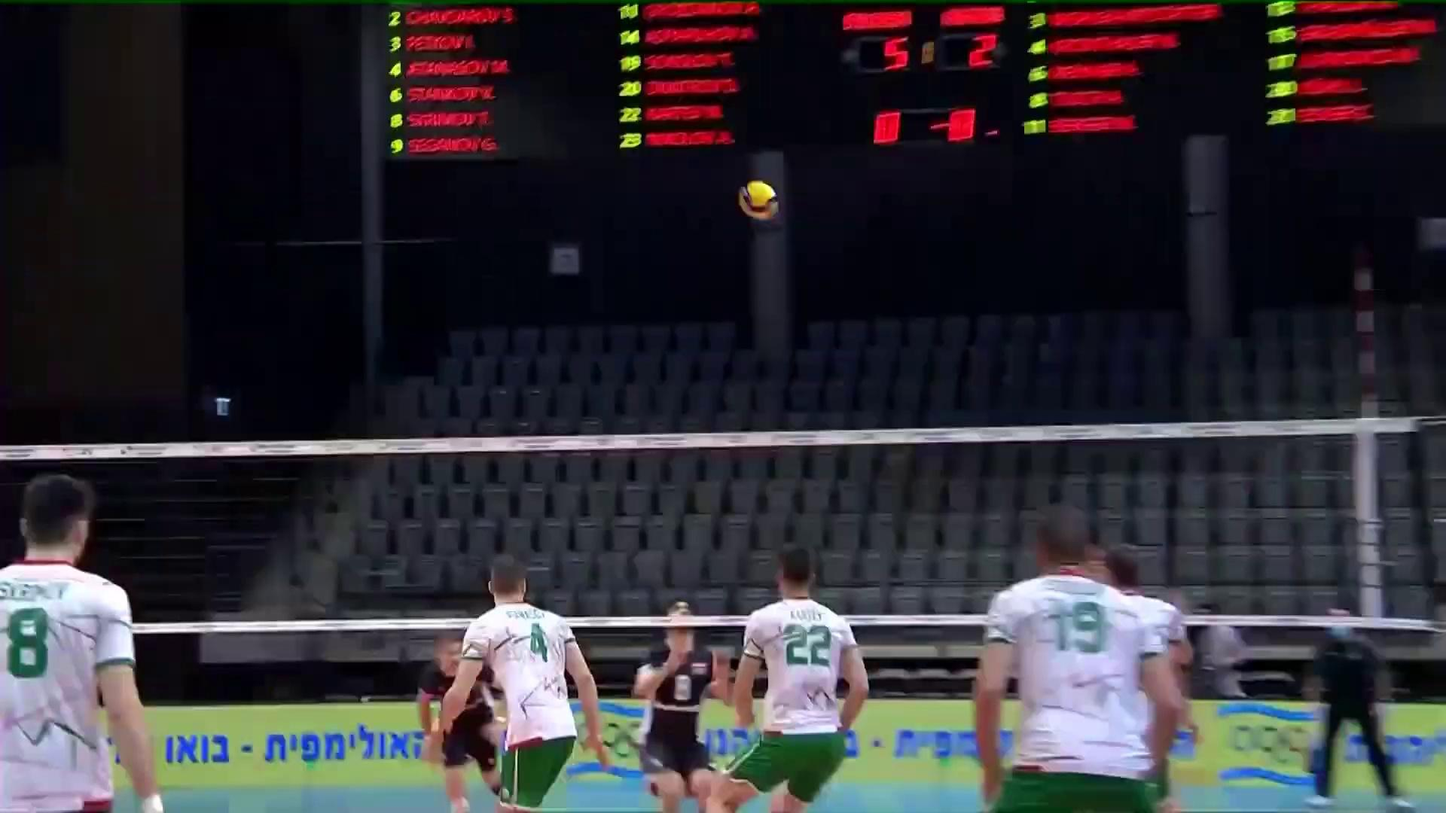ball: (735, 178, 782, 221)
